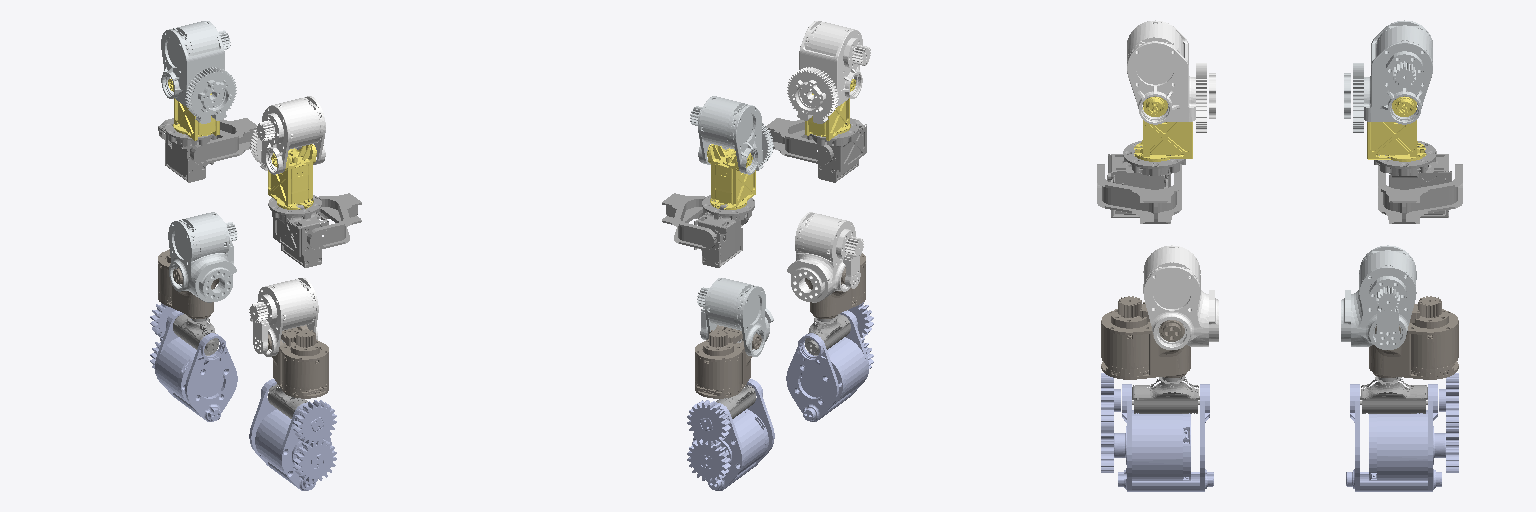
--- Render facts (derived) ---
3 views of the same robot in one strip: view 1: azimuth 30°, elevation 25°; view 2: azimuth 150°, elevation 25°; view 3: azimuth 270°, elevation 25° (orthographic).
Model Pikachu_V025 with 22 links and 21 joints (10 revolute, 11 fixed), rooted at base_link, posed all joints at 0.
Links seen in each view (by area): view 1: right_knee_link, left_arm_pitch_link, left_knee_link, left_hip_pitch_link, right_arm_pitch_link, right_hip_pitch_link, right_hip_roll_link, right_arm_yaw_link, right_arm_roll_link, right_elbow_link, left_elbow_link, left_hip_roll_link (+4 smaller); view 2: left_knee_link, right_knee_link, right_arm_pitch_link, right_hip_pitch_link, left_arm_pitch_link, left_hip_pitch_link, left_hip_roll_link, left_arm_roll_link, left_arm_yaw_link, left_elbow_link, right_arm_yaw_link, right_elbow_link (+4 smaller); view 3: right_knee_link, left_knee_link, left_arm_pitch_link, right_arm_pitch_link, left_hip_pitch_link, right_hip_pitch_link, right_hip_roll_link, left_hip_roll_link, right_elbow_link, left_elbow_link, left_arm_roll_link, right_arm_roll_link (+4 smaller).
Link boxes in pixels (x1,y1,x2,y2): right_knee_link: (249,379,336,490); left_arm_pitch_link: (161,21,236,123); left_knee_link: (150,303,237,421); left_hip_pitch_link: (168,212,237,302); right_arm_pitch_link: (250,96,325,174); right_hip_pitch_link: (249,278,318,356); right_hip_roll_link: (268,325,328,398); right_arm_yaw_link: (268,195,328,267); right_arm_roll_link: (268,144,316,209); right_elbow_link: (307,193,361,249); left_elbow_link: (159,118,256,164); left_hip_roll_link: (158,249,218,318); left_knee_link: (687,379,774,490); right_knee_link: (786,302,873,421); right_arm_pitch_link: (787,21,870,123); right_hip_pitch_link: (787,212,863,302); left_arm_pitch_link: (690,96,773,174); left_hip_pitch_link: (697,278,773,356); left_hip_roll_link: (695,325,761,398); left_arm_roll_link: (707,144,755,209); left_arm_yaw_link: (694,195,754,267); left_elbow_link: (662,193,748,249); right_arm_yaw_link: (807,119,866,182); right_elbow_link: (766,118,863,164); right_knee_link: (1101,373,1213,491); left_knee_link: (1346,373,1458,491); left_arm_pitch_link: (1344,20,1432,132); right_arm_pitch_link: (1127,20,1215,132); left_hip_pitch_link: (1341,245,1416,349); right_hip_pitch_link: (1143,245,1218,349); right_hip_roll_link: (1101,296,1190,379); left_hip_roll_link: (1369,296,1458,379); right_elbow_link: (1097,164,1181,223); left_elbow_link: (1378,164,1462,223); left_arm_roll_link: (1367,96,1426,161); right_arm_roll_link: (1134,96,1192,161).
Size in the robot's own frame: 0.1085 by 0.2946 by 0.408 metres.
16 mesh visuals loaded from 19 distinct referenced files (16 binary STL); not drawn: 3 (reference not matched to a file when rendering).

URDF robot description (Pikachu_V025):
<?xml version="1.0" encoding="utf-8"?>
<!-- This URDF was automatically created by SolidWorks to URDF Exporter! Originally created by Stephen Brawner ([email redacted]) 
     Commit Version: 1.6.0-4-g7f85cfe  Build Version: 1.6.7995.38578
     For more information, please see http://wiki.ros.org/sw_urdf_exporter -->
<robot
  name="Pikachu_V025">
  
  
  <!-- mujoco compiler insert -->
  
  <!-- <mujoco>
      <compiler 
      meshdir="assets/" 
      balanceinertia="true" 
      discardvisual="false"
      fusestatic="false"/> 
  </mujoco>
   -->
      
  <link
    name="base_link">
    <inertial>
      <origin
        xyz="-0.0248658973161246 -0.000239074546610159 0.104279920407504"
        rpy="0 0 0" />
      <mass
        value="1.51846290530928" />
      <inertia
        ixx="0.00236691625856837"
        ixy="3.00180498487964E-06"
        ixz="6.9357425435072E-05"
        iyy="0.00263550441897128"
        iyz="-1.31786084379752E-07"
        izz="0.00140083971155503" />
    </inertial>
    <visual>
      <origin
        xyz="0 0 0"
        rpy="0 0 0" />
      <geometry>
        <mesh
          filename="assets/base_link.STL" />
      </geometry>
      <material
        name="">
        <color
          rgba="0.792156862745098 0.819607843137255 0.933333333333333 1" />
      </material>
    </visual>
    <collision>
      <origin
        xyz="0 0 0"
        rpy="0 0 0" />
      <geometry>
        <mesh
          filename="assets/base_link.STL" />
      </geometry>
    </collision>
  </link>
  <link
    name="left_hip_pitch_link">
    <inertial>
      <origin
        xyz="0.00920325123013891 0.0289511213720265 0.0244534242110747"
        rpy="0 0 0" />
      <mass
        value="0.131128174369325" />
      <inertia
        ixx="3.09443359493404E-05"
        ixy="-1.46711074625832E-10"
        ixz="4.46526538448141E-08"
        iyy="2.96006347929105E-05"
        iyz="-1.87708399216609E-06"
        izz="2.46723339503116E-05" />
    </inertial>
    <visual>
      <origin
        xyz="0 0 0"
        rpy="0 0 0" />
      <geometry>
        <mesh
          filename="assets/left_hip_pitch_link.STL" />
      </geometry>
      <material
        name="">
        <color
          rgba="0.898039215686275 0.917647058823529 0.929411764705882 1" />
      </material>
    </visual>
    <collision>
      <origin
        xyz="0 0 0"
        rpy="0 0 0" />
      <geometry>
        <mesh
          filename="assets/left_hip_pitch_link.STL" />
      </geometry>
    </collision>
  </link>
  <joint
    name="left_hip_pitch_joint"
    type="revolute">
    <origin
      xyz="0 0.0515 0"
      rpy="0 0 0" />
    <parent
      link="base_link" />
    <child
      link="left_hip_pitch_link" />
    <axis
      xyz="0 -1 0" />
    <limit 
      lower="0"    
      upper="2.44"    
      effort="12.5"  
      velocity="2" />
   <dynamics 
      damping="0.4" 
      friction="0.01" />

  </joint>
  <link
    name="left_hip_roll_link">
    <inertial>
      <origin
        xyz="-2.06148097191985E-05 0.0257688798103179 -0.01094856081007"
        rpy="0 0 0" />
      <mass
        value="0.120459927292994" />
      <inertia
        ixx="2.633632775397E-05"
        ixy="-6.5720849529199E-09"
        ixz="1.20682872669599E-09"
        iyy="2.40005074630719E-05"
        iyz="3.94475733639461E-07"
        izz="2.98178904809497E-05" />
    </inertial>
    <visual>
      <origin
        xyz="0 0 0"
        rpy="0 0 0" />
      <geometry>
        <mesh
          filename="assets/left_hip_roll_link.STL" />
      </geometry>
      <material
        name="">
        <color
          rgba="0.647058823529412 0.619607843137255 0.588235294117647 1" />
      </material>
    </visual>
    <collision>
      <origin
        xyz="0 0 0"
        rpy="0 0 0" />
      <geometry>
        <mesh
          filename="assets/left_hip_roll_link.STL" />
      </geometry>
    </collision>
  </link>
  <joint
    name="left_hip_roll_joint"
    type="revolute">
    <origin
      xyz="0 0.0355 0"
      rpy="0 0 0" />
    <parent
      link="left_hip_pitch_link" />
    <child
      link="left_hip_roll_link" />
    <axis
      xyz="1 0 0" />
    <limit 
      lower="-0.09"    
      upper="0.26"    
      effort="9.0"  
      velocity="1" />
   <dynamics 
      damping="0.15" 
      friction="0.01" />

  </joint>
  <link
    name="left_hip_yaw_link">
    <inertial>
      <origin
        xyz="-0.00163503743808888 0.000676763376213745 0.0166626673400821"
        rpy="0 0 0" />
      <mass
        value="0.0410649211793094" />
      <inertia
        ixx="1.77921638680041E-05"
        ixy="9.1300490130741E-12"
        ixz="-1.10953780553641E-10"
        iyy="1.30755369286199E-05"
        iyz="9.36102356344644E-07"
        izz="7.35746919202218E-06" />
    </inertial>
    <visual>
      <origin
        xyz="0 0 0"
        rpy="0 0 0" />
      <geometry>
        <mesh
          filename="assets/left_hip_yaw_link.STL" />
      </geometry>
      <material
        name="">
        <color
          rgba="0.698039215686274 0.698039215686274 0.698039215686274 1" />
      </material>
    </visual>
    <collision>
      <origin
        xyz="0 0 0"
        rpy="0 0 0" />
      <geometry>
        <mesh
          filename="assets/left_hip_yaw_link.STL" />
      </geometry>
    </collision>
  </link>
  <joint
    name="left_hip_yaw_joint"
    type="revolute">
    <origin
      xyz="0 0 -0.046"
      rpy="0 0 0" />
    <parent
      link="left_hip_roll_link" />
    <child
      link="left_hip_yaw_link" />
    <axis
      xyz="0 0 1" />
    <limit 
      lower="-0.09"    
      upper="0.26"    
      effort="9.0"  
      velocity="1" />
   <dynamics 
      damping="0.15" 
      friction="0.01" />

  </joint>
  <link
    name="left_knee_link">
    <inertial>
      <origin
        xyz="7.33450698506389E-06 0.0238046516753096 -0.0335203032723837"
        rpy="0 0 0" />
      <mass
        value="0.218032110410692" />
      <inertia
        ixx="8.40369294332751E-05"
        ixy="-2.57475258202327E-09"
        ixz="-1.01985530829951E-07"
        iyy="8.32268027679501E-05"
        iyz="1.36287215654808E-07"
        izz="7.04023370459197E-05" />
    </inertial>
    <visual>
      <origin
        xyz="0 0 0"
        rpy="0 0 0" />
      <geometry>
        <mesh
          filename="assets/left_knee_link.STL" />
      </geometry>
      <material
        name="">
        <color
          rgba="0.792156862745098 0.819607843137255 0.933333333333333 1" />
      </material>
    </visual>
    <collision>
      <origin
        xyz="0 0 0"
        rpy="0 0 0" />
      <geometry>
        <mesh
          filename="assets/left_knee_link.STL" />
      </geometry>
    </collision>
  </link>
  <joint
    name="left_knee_joint"
    type="revolute">
    <origin
      xyz="0 0 -0.025"
      rpy="0 0 0" />
    <parent
      link="left_hip_yaw_link" />
    <child
      link="left_knee_link" />
    <axis
      xyz="0 1 0" />
    <limit 
      lower="0"    
      upper="1.57"    
      effort="12.5"  
      velocity="3" />
   <dynamics 
      damping="0.15" 
      friction="0.01" />

  </joint>
  <link
    name="left_ankle_link">
    <inertial>
      <origin
        xyz="-0.0136093342344966 0.0198623071860005 -0.0300854476118434"
        rpy="0 0 0" />
      <mass
        value="0.135141160870832" />
      <inertia
        ixx="6.67189716039094E-05"
        ixy="-2.97400845436551E-06"
        ixz="9.96013005677274E-07"
        iyy="8.35360465025887E-05"
        iyz="1.36310089927655E-06"
        izz="0.000101145055543541" />
    </inertial>
    <visual>
      <origin
        xyz="0 0 0"
        rpy="0 0 0" />
      <geometry>
        <mesh
          filename="assets/left_ankle_flat_link.STL" />
      </geometry>
      <material
        name="">
        <color
          rgba="0.698039215686274 0.698039215686274 0.698039215686274 1" />
      </material>
    </visual>
    <collision>
      <origin
        xyz="0 0 0"
        rpy="0 0 0" />
      <geometry>
        <mesh
          filename="assets/left_ankle_flat_link.STL" />
      </geometry>
    </collision>
  </link>
  <joint
    name="left_ankle_joint"
    type="revolute">
    <origin
      xyz="0 0 -0.0700000000000001"
      rpy="0 0 0" />
    <parent
      link="left_knee_link" />
    <child
      link="left_ankle_link" />
    <axis
      xyz="0 -1 0" />
    <limit 
      lower="-0.52"    
      upper="1.05"    
      effort="9.0"  
      velocity="2" />
   <dynamics 
      damping="0.4" 
      friction="0.01" />

  </joint>
  <link
    name="right_hip_pitch_link">
    <inertial>
      <origin
        xyz="-0.00920325122819299 -0.0289511213718761 0.0244534242087261"
        rpy="0 0 0" />
      <mass
        value="0.131128174380274" />
      <inertia
        ixx="3.09443359518294E-05"
        ixy="-1.46710536496736E-10"
        ixz="-4.46526515209002E-08"
        iyy="2.96006347975272E-05"
        iyz="1.87708399165884E-06"
        izz="2.4672333952739E-05" />
    </inertial>
    <visual>
      <origin
        xyz="0 0 0"
        rpy="0 0 0" />
      <geometry>
        <mesh
          filename="assets/right_hip_pitch_link.STL" />
      </geometry>
      <material
        name="">
        <color
          rgba="1 1 1 1" />
      </material>
    </visual>
    <collision>
      <origin
        xyz="0 0 0"
        rpy="0 0 0" />
      <geometry>
        <mesh
          filename="assets/right_hip_pitch_link.STL" />
      </geometry>
    </collision>
  </link>
  <joint
    name="right_hip_pitch_joint"
    type="revolute">
    <origin
      xyz="0 -0.0515 0"
      rpy="0 0 0" />
    <parent
      link="base_link" />
    <child
      link="right_hip_pitch_link" />
    <axis
      xyz="0 -1 0" />
    <limit 
      lower="0"    
      upper="2.44"    
      effort="12.5"  
      velocity="2" />
   <dynamics 
      damping="0.4" 
      friction="0.01" />

  </joint>
  <link
    name="right_hip_roll_link">
    <inertial>
      <origin
        xyz="-0.000142110260022219 -0.0257568154792935 -0.0109485611671593"
        rpy="0 0 0" />
      <mass
        value="0.120459924755024" />
      <inertia
        ixx="2.63150070908483E-05"
        ixy="-1.49569580778851E-07"
        ixz="9.07152398469171E-09"
        iyy="2.40218277317685E-05"
        iyz="-3.95237725228403E-07"
        izz="2.9817890112597E-05" />
    </inertial>
    <visual>
      <origin
        xyz="0 0 0"
        rpy="0 0 0" />
      <geometry>
        <mesh
          filename="assets/right_hip_roll_link.STL" />
      </geometry>
      <material
        name="">
        <color
          rgba="0.647058823529412 0.619607843137255 0.588235294117647 1" />
      </material>
    </visual>
    <collision>
      <origin
        xyz="0 0 0"
        rpy="0 0 0" />
      <geometry>
        <mesh
          filename="assets/right_hip_roll_link.STL" />
      </geometry>
    </collision>
  </link>
  <joint
    name="right_hip_roll_joint"
    type="revolute">
    <origin
      xyz="0 -0.0355 0"
      rpy="0 0 0" />
    <parent
      link="right_hip_pitch_link" />
    <child
      link="right_hip_roll_link" />
    <axis
      xyz="-1 0 0" />
    <limit 
      lower="-0.09"    
      upper="0.26"    
      effort="9.0"  
      velocity="1" />
   <dynamics 
      damping="0.15" 
      friction="0.01" />

  </joint>
  <link
    name="right_hip_yaw_link">
    <inertial>
      <origin
        xyz="0.00163503784617864 -0.000676764004111763 0.01666266460157"
        rpy="0 0 0" />
      <mass
        value="0.0410649258706904" />
      <inertia
        ixx="1.77921636373127E-05"
        ixy="9.35880735910971E-12"
        ixz="1.10974469680388E-10"
        iyy="1.30755369833068E-05"
        iyz="-9.3610219772242E-07"
        izz="7.35746904660498E-06" />
    </inertial>
    <visual>
      <origin
        xyz="0 0 0"
        rpy="0 0 0" />
      <geometry>
        <mesh
          filename="assets/right_hip_yaw_link.STL" />
      </geometry>
      <material
        name="">
        <color
          rgba="0.698039215686274 0.698039215686274 0.698039215686274 1" />
      </material>
    </visual>
    <collision>
      <origin
        xyz="0 0 0"
        rpy="0 0 0" />
      <geometry>
        <mesh
          filename="assets/right_hip_yaw_link.STL" />
      </geometry>
    </collision>
  </link>
  <joint
    name="right_hip_yaw_joint"
    type="revolute">
    <origin
      xyz="0 0 -0.046"
      rpy="0 0 0" />
    <parent
      link="right_hip_roll_link" />
    <child
      link="right_hip_yaw_link" />
    <axis
      xyz="0 0 -1" />
    <limit 
      lower="-0.09"    
      upper="0.26"    
      effort="9.0"  
      velocity="1" />
   <dynamics 
      damping="0.15" 
      friction="0.01" />

  </joint>
  <link
    name="right_knee_link">
    <inertial>
      <origin
        xyz="-7.33450698683058E-06 -0.0238046516753161 -0.0335203032723833"
        rpy="0 0 0" />
      <mass
        value="0.218032110410645" />
      <inertia
        ixx="8.4036928910417E-05"
        ixy="-2.57475258205218E-09"
        ixz="1.01987015064204E-07"
        iyy="8.322680276795E-05"
        iyz="-1.3628721565477E-07"
        izz="7.04023375687777E-05" />
    </inertial>
    <visual>
      <origin
        xyz="0 0 0"
        rpy="0 0 0" />
      <geometry>
        <mesh
          filename="assets/right_knee_link.STL" />
      </geometry>
      <material
        name="">
        <color
          rgba="0.792156862745098 0.819607843137255 0.933333333333333 1" />
      </material>
    </visual>
    <collision>
      <origin
        xyz="0 0 0"
        rpy="0 0 0" />
      <geometry>
        <mesh
          filename="assets/right_knee_link.STL" />
      </geometry>
    </collision>
  </link>
  <joint
    name="right_knee_joint"
    type="revolute">
    <origin
      xyz="0 0 -0.025"
      rpy="0 0 0" />
    <parent
      link="right_hip_yaw_link" />
    <child
      link="right_knee_link" />
    <axis
      xyz="0 1 0" />
    <limit 
      lower="0"    
      upper="1.57"    
      effort="12.5"  
      velocity="3" />
   <dynamics 
      damping="0.4" 
      friction="0.01" />

  </joint>
  <link
    name="right_ankle_link">
    <inertial>
      <origin
        xyz="0.0136093360600406 -0.0198623023460545 -0.0300854512020533"
        rpy="0 0 0" />
      <mass
        value="0.135141197847379" />
      <inertia
        ixx="6.67189744538841E-05"
        ixy="-2.97400854018268E-06"
        ixz="-9.96006670402407E-07"
        iyy="8.3536063675579E-05"
        iyz="-1.36310064921441E-06"
        izz="0.000101145069800044" />
    </inertial>
    <visual>
      <origin
        xyz="0 0 0"
        rpy="0 0 0" />
      <geometry>
        <mesh
          filename="assets/right_ankle_flat_link.STL" />
      </geometry>
      <material
        name="">
        <color
          rgba="1 1 1 1" />
      </material>
    </visual>
    <collision>
      <origin
        xyz="0 0 0"
        rpy="0 0 0" />
      <geometry>
        <mesh
          filename="assets/right_ankle_flat_link.STL" />
      </geometry>
    </collision>
  </link>
  <joint
    name="right_ankle_joint"
    type="revolute">
    <origin
      xyz="0 0 -0.0700000000001066"
      rpy="0 0 0" />
    <parent
      link="right_knee_link" />
    <child
      link="right_ankle_link" />
    <axis
      xyz="0 -1 0" />
    <limit 
      lower="-0.52"    
      upper="1.05"    
      effort="9.0"  
      velocity="2" />
   <dynamics 
      damping="0.15" 
      friction="0.01" />
  </joint>
  <link
    name="left_arm_pitch_link">
    <inertial>
      <origin
        xyz="0.00573526587764458 0.0343502951506064 0.0197089333282915"
        rpy="0 0 0" />
      <mass
        value="0.157017666363809" />
      <inertia
        ixx="3.80986838490532E-05"
        ixy="-2.86794818700534E-11"
        ixz="-7.976255231312E-09"
        iyy="4.3359742587208E-05"
        iyz="-1.4809929925462E-06"
        izz="3.27805945719431E-05" />
    </inertial>
    <visual>
      <origin
        xyz="0 0 0"
        rpy="0 0 0" />
      <geometry>
        <mesh
          filename="assets/left_arm_pitch_link.STL" />
      </geometry>
      <material
        name="">
        <color
          rgba="0.898039215686275 0.917647058823529 0.929411764705882 1" />
      </material>
    </visual>
    <collision>
      <origin
        xyz="0 0 0"
        rpy="0 0 0" />
      <geometry>
        <mesh
          filename="assets/left_arm_pitch_link.STL" />
      </geometry>
    </collision>
  </link>
  <joint
    name="left_arm_pitch_joint"
    type="fixed">
    <origin
      xyz="0 0.0515 0.2"
      rpy="0 0 0" />
    <parent
      link="base_link" />
    <child
      link="left_arm_pitch_link" />
    <axis
      xyz="0 -1 0" />
  </joint>
  <link
    name="left_arm_roll_link">
    <inertial>
      <origin
        xyz="4.99147609670503E-05 -0.00641433355138372 -0.0240057735326002"
        rpy="0 0 0" />
      <mass
        value="0.021192024621192" />
      <inertia
        ixx="1.00981633999349E-05"
        ixy="-1.33918863673402E-09"
        ixz="-8.85774639613302E-11"
        iyy="1.02806378583624E-05"
        iyz="-2.6463907601179E-07"
        izz="5.85635405459114E-06" />
    </inertial>
    <visual>
      <origin
        xyz="0 0 0"
        rpy="0 0 0" />
      <geometry>
        <mesh
          filename="assets/left_arm_roll_link.STL" />
      </geometry>
      <material
        name="">
        <color
          rgba="1 0.945098039215686 0.513725490196078 1" />
      </material>
    </visual>
    <collision>
      <origin
        xyz="0 0 0"
        rpy="0 0 0" />
      <geometry>
        <mesh
          filename="assets/left_arm_roll_link.STL" />
      </geometry>
    </collision>
  </link>
  <joint
    name="left_arm_roll_joint"
    type="fixed">
    <origin
      xyz="0 0.049 0"
      rpy="0 0 0" />
    <parent
      link="left_arm_pitch_link" />
    <child
      link="left_arm_roll_link" />
    <axis
      xyz="1 0 0" />
  </joint>
  <link
    name="left_arm_yaw_link">
    <inertial>
      <origin
        xyz="0.00210961633631391 0.00808710734491989 -0.01865168324226"
        rpy="0 0 0" />
      <mass
        value="0.0245464038310501" />
      <inertia
        ixx="1.16208352507524E-05"
        ixy="-1.69155936797095E-07"
        ixz="1.40718871563655E-07"
        iyy="8.78579437330603E-06"
        iyz="9.12718875115547E-07"
        izz="9.89698208892374E-06" />
    </inertial>
    <visual>
      <origin
        xyz="0 0 0"
        rpy="0 0 0" />
      <geometry>
        <mesh
          filename="assets/left_arm_yaw_link.STL" />
      </geometry>
      <material
        name="">
        <color
          rgba="0.698039215686274 0.698039215686274 0.698039215686274 1" />
      </material>
    </visual>
    <collision>
      <origin
        xyz="0 0 0"
        rpy="0 0 0" />
      <geometry>
        <mesh
          filename="assets/left_arm_yaw_link.STL" />
      </geometry>
    </collision>
  </link>
  <joint
    name="left_arm_yaw_joint"
    type="fixed">
    <origin
      xyz="5.00000000000137E-05 0 -0.051"
      rpy="0 0 0" />
    <parent
      link="left_arm_roll_link" />
    <child
      link="left_arm_yaw_link" />
    <axis
      xyz="0 0 1" />
  </joint>
  <link
    name="left_elbow_link">
    <inertial>
      <origin
        xyz="1.42606466999734E-15 0.00793437988860006 -0.0327214156612208"
        rpy="0 0 0" />
      <mass
        value="0.0144258718112896" />
      <inertia
        ixx="1.41115697803212E-05"
        ixy="-1.25902502289946E-18"
        ixz="2.23082407365642E-18"
        iyy="7.31533316040081E-06"
        iyz="-1.48559125128579E-06"
        izz="8.14850816676156E-06" />
    </inertial>
    <visual>
      <origin
        xyz="0 0 0"
        rpy="0 0 0" />
      <geometry>
        <mesh
          filename="assets/left_elbow_link.STL" />
      </geometry>
      <material
        name="">
        <color
          rgba="0.698039215686274 0.698039215686274 0.698039215686274 1" />
      </material>
    </visual>
    <collision>
      <origin
        xyz="0 0 0"
        rpy="0 0 0" />
      <geometry>
        <mesh
          filename="assets/left_elbow_link.STL" />
      </geometry>
    </collision>
  </link>
  <joint
    name="left_elbow_joint"
    type="fixed">
    <origin
      xyz="0 0 -0.021"
      rpy="0 -1.57 0" />
    <parent
      link="left_arm_yaw_link" />
    <child
      link="left_elbow_link" />
    <axis
      xyz="0 -1 0" />
  </joint>
  <link
    name="right_arm_pitch_link">
    <inertial>
      <origin
        xyz="-0.00573526587764467 -0.0343502951506065 0.0197089333282915"
        rpy="0 0 0" />
      <mass
        value="0.157017666363809" />
      <inertia
        ixx="3.80986838490531E-05"
        ixy="-2.86794818826329E-11"
        ixz="7.97625523130349E-09"
        iyy="4.3359742587208E-05"
        iyz="1.48099299254621E-06"
        izz="3.27805945719431E-05" />
    </inertial>
    <visual>
      <origin
        xyz="0 0 0"
        rpy="0 0 0" />
      <geometry>
        <mesh
          filename="assets/right_arm_pitch_link.STL" />
      </geometry>
      <material
        name="">
        <color
          rgba="1 1 1 1" />
      </material>
    </visual>
    <collision>
      <origin
        xyz="0 0 0"
        rpy="0 0 0" />
      <geometry>
        <mesh
          filename="assets/right_arm_pitch_link.STL" />
      </geometry>
    </collision>
  </link>
  <joint
    name="right_arm_pitch_joint"
    type="fixed">
    <origin
      xyz="0 -0.0515 0.2"
      rpy="0 0 0" />
    <parent
      link="base_link" />
    <child
      link="right_arm_pitch_link" />
    <axis
      xyz="0 -1 0" />
  </joint>
  <link
    name="right_arm_roll_link">
    <inertial>
      <origin
        xyz="-4.99147609489854E-05 0.00641433355139448 -0.0240057735326245"
        rpy="0 0 0" />
      <mass
        value="0.0211920246211624" />
      <inertia
        ixx="1.00981633999257E-05"
        ixy="-1.33918863331757E-09"
        ixz="8.85774574540572E-11"
        iyy="1.02806378583495E-05"
        iyz="2.64639076008448E-07"
        izz="5.85635405458328E-06" />
    </inertial>
    <visual>
      <origin
        xyz="0 0 0"
        rpy="0 0 0" />
      <geometry>
        <mesh
          filename="assets/right_arm_roll_link.STL" />
      </geometry>
      <material
        name="">
        <color
          rgba="1 0.945098039215686 0.513725490196078 1" />
      </material>
    </visual>
    <collision>
      <origin
        xyz="0 0 0"
        rpy="0 0 0" />
      <geometry>
        <mesh
          filename="assets/right_arm_roll_link.STL" />
      </geometry>
    </collision>
  </link>
  <joint
    name="right_arm_roll_joint"
    type="fixed">
    <origin
      xyz="0 -0.049 0"
      rpy="0 0 0" />
    <parent
      link="right_arm_pitch_link" />
    <child
      link="right_arm_roll_link" />
    <axis
      xyz="-1 0 0" />
  </joint>
  <link
    name="right_arm_yaw_link">
    <inertial>
      <origin
        xyz="-0.00210961637146437 -0.00808710743784105 -0.0186516832776829"
        rpy="0 0 0" />
      <mass
        value="0.0245464036232747" />
      <inertia
        ixx="1.16208352108784E-05"
        ixy="-1.69155922957163E-07"
        ixz="-1.40718862771802E-07"
        iyy="8.78579434400106E-06"
        iyz="-9.12718853935147E-07"
        izz="9.89698204860492E-06" />
    </inertial>
    <visual>
      <origin
        xyz="0 0 0"
        rpy="0 0 0" />
      <geometry>
        <mesh
          filename="assets/right_arm_yaw_link.STL" />
      </geometry>
      <material
        name="">
        <color
          rgba="0.698039215686274 0.698039215686274 0.698039215686274 1" />
      </material>
    </visual>
    <collision>
      <origin
        xyz="0 0 0"
        rpy="0 0 0" />
      <geometry>
        <mesh
          filename="assets/right_arm_yaw_link.STL" />
      </geometry>
    </collision>
  </link>
  <joint
    name="right_arm_yaw_joint"
    type="fixed">
    <origin
      xyz="-5.00000000000223E-05 0 -0.051"
      rpy="0 0 0" />
    <parent
      link="right_arm_roll_link" />
    <child
      link="right_arm_yaw_link" />
    <axis
      xyz="0 1 0" />
  </joint>
  <link
    name="right_elbow_link">
    <inertial>
      <origin
        xyz="-1.42629506295899E-15 -0.00793437988860005 -0.0327214156612207"
        rpy="0 0 0" />
      <mass
        value="0.0144258718112896" />
      <inertia
        ixx="1.41115697803212E-05"
        ixy="-1.25606910079746E-18"
        ixz="-2.2316209791103E-18"
        iyy="7.31533316040081E-06"
        iyz="1.48559125128579E-06"
        izz="8.14850816676155E-06" />
    </inertial>
    <visual>
      <origin
        xyz="0 0 0"
        rpy="0 0 0" />
      <geometry>
        <mesh
          filename="assets/right_elbow_link.STL" />
      </geometry>
      <material
        name="">
        <color
          rgba="0.698039215686274 0.698039215686274 0.698039215686274 1" />
      </material>
    </visual>
    <collision>
      <origin
        xyz="0 0 0"
        rpy="0 0 0" />
      <geometry>
        <mesh
          filename="assets/right_elbow_link.STL" />
      </geometry>
    </collision>
  </link>
  <joint
    name="right_elbow_joint"
    type="fixed">
    <origin
      xyz="0 0 -0.021"
      rpy="0 -1.57 0" />
    <parent
      link="right_arm_yaw_link" />
    <child
      link="right_elbow_link" />
    <axis
      xyz="0 1 0" />
  </joint>
  <!-- Trunk frame for Placo compatibility -->
  <link
    name="trunk">
    <inertial>
      <origin
        xyz="0 0 0"
        rpy="0 0 0" />
      <mass
        value="1e-9" />
      <inertia
        ixx="0"
        ixy="0"
        ixz="0"
        iyy="0"
        iyz="0"
        izz="0" />
    </inertial>
  </link>
  <joint
    name="trunk_frame"
    type="fixed">
    <origin
      xyz="0 0 0.1"
      rpy="0 0 0" />
    <parent
      link="base_link" />
    <child
      link="trunk" />
    <axis
      xyz="0 0 0" />
  </joint>
  <!-- Foot frames for Placo compatibility -->
  <link
    name="left_foot">
    <inertial>
      <origin
        xyz="0 0 0"
        rpy="0 0 0" />
      <mass
        value="1e-9" />
      <inertia
        ixx="0"
        ixy="0"
        ixz="0"
        iyy="0"
        iyz="0"
        izz="0" />
    </inertial>
  </link>
  <joint
    name="left_foot_frame"
    type="fixed">
    <origin
      xyz="0 0 -0.05"
      rpy="0 0 0" />
    <parent
      link="left_ankle_link" />
    <child
      link="left_foot" />
    <axis
      xyz="0 0 0" />
  </joint>
  <link
    name="right_foot">
    <inertial>
      <origin
        xyz="0 0 0"
        rpy="0 0 0" />
      <mass
        value="1e-9" />
      <inertia
        ixx="0"
        ixy="0"
        ixz="0"
        iyy="0"
        iyz="0"
        izz="0" />
    </inertial>
  </link>
  <joint
    name="right_foot_frame"
    type="fixed">
    <origin
      xyz="0 0 -0.05"
      rpy="0 0 0" />
    <parent
      link="right_ankle_link" />
    <child
      link="right_foot" />
    <axis
      xyz="0 0 0" />
  </joint>
  
</robot>
